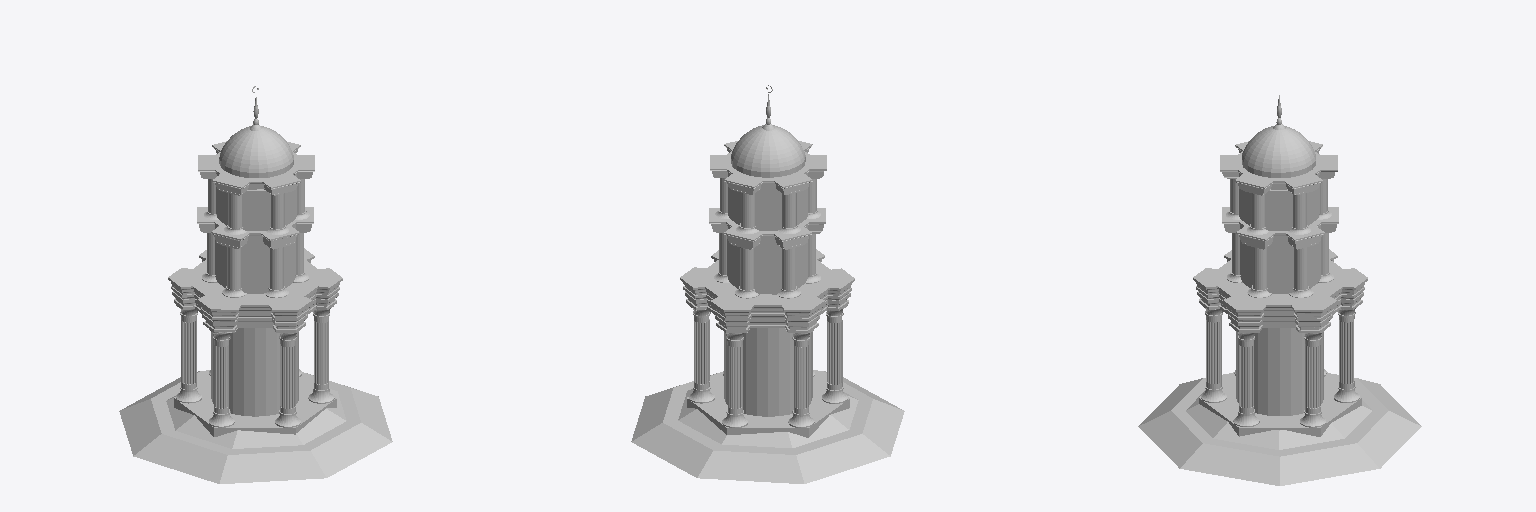
3 views of the same model, side by side, from view 1: azimuth 30°, elevation 25°; view 2: azimuth 150°, elevation 25°; view 3: azimuth 270°, elevation 25° (orthographic).
Parts seen in each view (by area): view 1: Sketchup; view 2: Sketchup; view 3: Sketchup.
Boxes of the visible parts, box(x1,y1,x2,y2) form: Sketchup: box(119, 86, 392, 483); Sketchup: box(631, 85, 904, 483); Sketchup: box(1138, 95, 1421, 485).
Size of the model in its own units: 8.1 by 10.75 by 8.1.